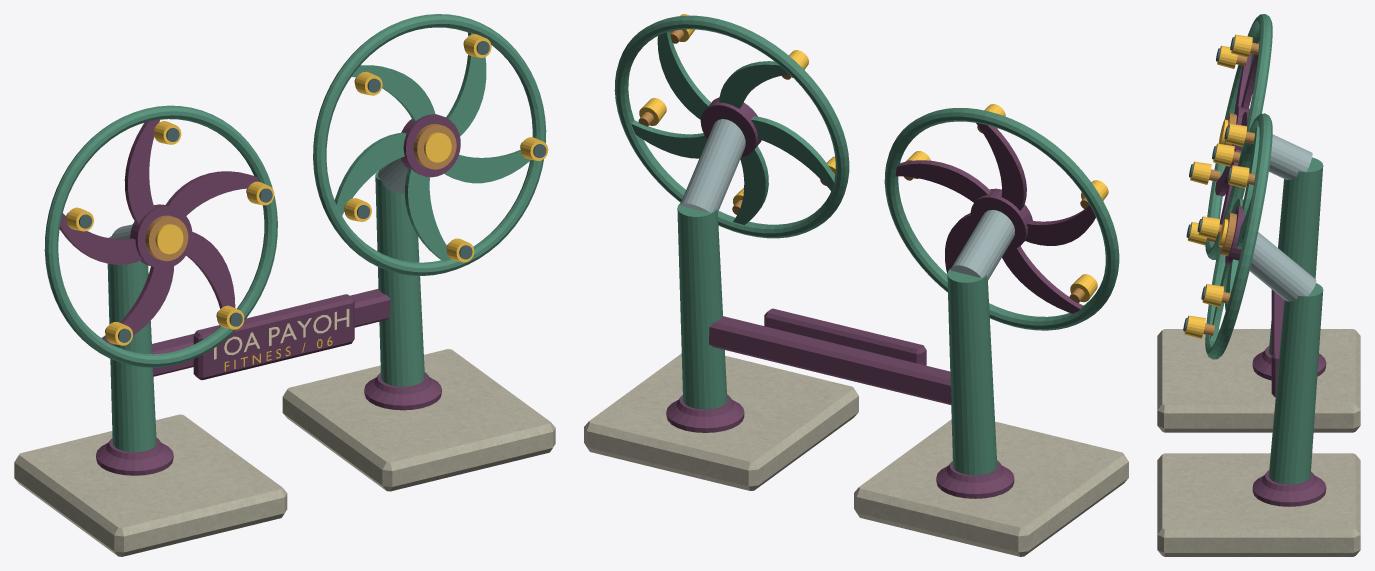
3 views of the same model, side by side, from view 1: azimuth 30°, elevation 25°; view 2: azimuth 150°, elevation 25°; view 3: azimuth 270°, elevation 25° (orthographic). The views are drawn at different scales.
Visible parts, largest first — view 1: Terrazzo pads, Bent tubular rims, Swept flower spokes, Swept pedestals, Fitness badge, Hub medallions, Palm rollers, Anchoring rosettes, Interconnecting rail, Roller end buttons, Bearing spindles; view 2: Terrazzo pads, Bent tubular rims, Swept pedestals, Swept flower spokes, Interconnecting rail, Bearing spindles, Anchoring rosettes, Fitness badge, Hub medallions, Palm rollers, Bronze grip pivots; view 3: Terrazzo pads, Swept pedestals, Bent tubular rims, Bearing spindles, Palm rollers, Swept flower spokes, Anchoring rosettes, Hub medallions, Fitness badge, Bronze grip pivots, Roller end buttons.
Boxes of the visible parts, x1,y1,x2,y2 form: Terrazzo pads: (14, 349, 555, 556); Bent tubular rims: (44, 14, 546, 367); Swept flower spokes: (59, 32, 530, 345); Swept pedestals: (107, 171, 424, 452); Fitness badge: (193, 294, 354, 380); Hub medallions: (130, 114, 460, 268); Palm rollers: (66, 34, 548, 345); Anchoring rosettes: (96, 372, 441, 475); Interconnecting rail: (152, 288, 390, 376); Roller end buttons: (79, 41, 546, 342); Bearing spindles: (111, 158, 408, 261); Terrazzo pads: (584, 353, 1128, 556); Bent tubular rims: (614, 15, 1119, 330); Swept pedestals: (677, 203, 997, 475); Swept flower spokes: (631, 31, 1095, 313); Interconnecting rail: (708, 316, 951, 404); Bearing spindles: (680, 119, 1014, 279); Anchoring rosettes: (666, 394, 1014, 498); Fitness badge: (764, 308, 926, 365); Hub medallions: (700, 97, 1032, 249); Palm rollers: (639, 14, 1108, 302); Bronze grip pivots: (638, 30, 1089, 303); Terrazzo pads: (1157, 329, 1360, 556); Swept pedestals: (1268, 157, 1323, 484); Bent tubular rims: (1205, 14, 1272, 359); Bearing spindles: (1249, 134, 1316, 301); Palm rollers: (1184, 34, 1252, 338); Swept flower spokes: (1210, 42, 1259, 341); Anchoring rosettes: (1252, 346, 1326, 506); Hub medallions: (1218, 106, 1249, 264); Fitness badge: (1271, 289, 1284, 397); Bronze grip pivots: (1203, 42, 1259, 335); Roller end buttons: (1183, 37, 1234, 331).
Bounding box in the file's own units: 2.19 × 1.74 × 0.816.
8 materials, 1 textured.
